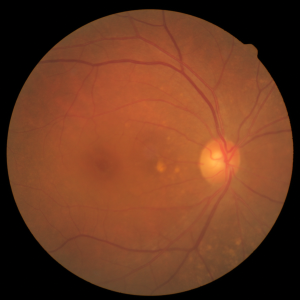retina_disease: (87, 89, 275, 207)
